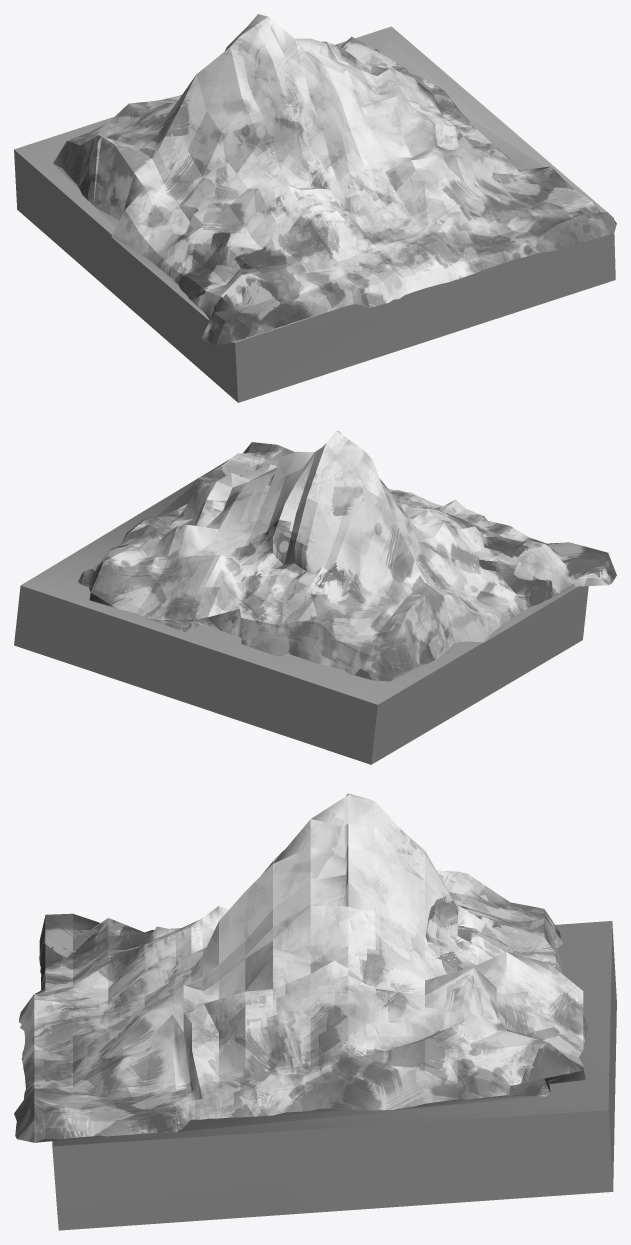
File: mountain.fbx
3 renders of one model, top to bottom at view 1: azimuth 30°, elevation 25°; view 2: azimuth 150°, elevation 25°; view 3: azimuth 270°, elevation 25°, orthographic. The views are drawn at different scales.
Visible parts, largest first — view 1: pCube2; view 2: pCube2; view 3: pCube2.
Part boxes in pixels (box(x1,y1,x2,y2)): pCube2: box(14, 14, 616, 402); pCube2: box(14, 431, 616, 764); pCube2: box(14, 793, 616, 1230).
Bounding box in the file's own units: 175 × 110 × 179.
Materials: 1 (1 with a texture image).
